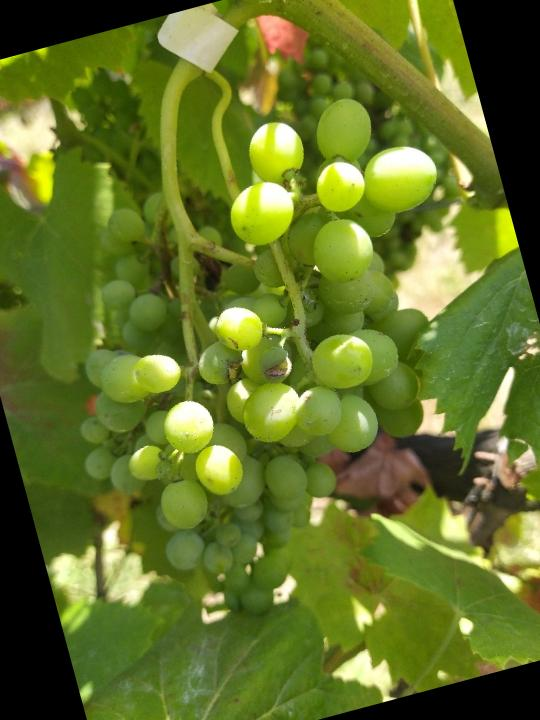grape: (8, 77, 539, 649)
